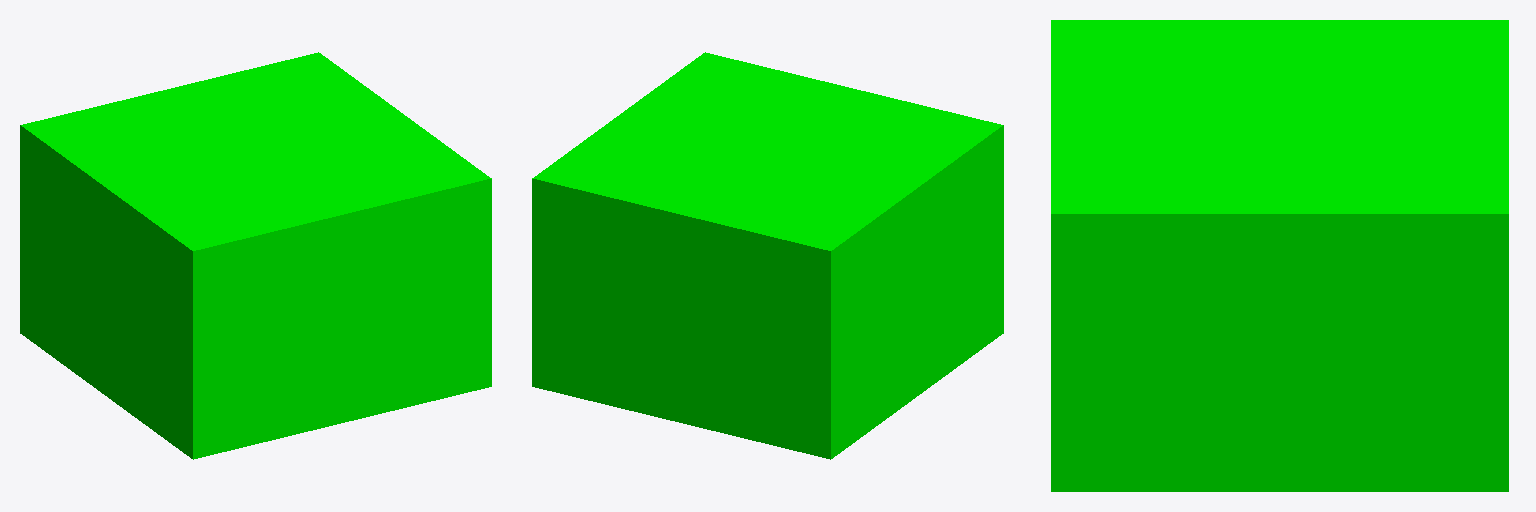
URDF robot description (cuboid_non_target):
<robot name="cuboid_non_target">
  <material name="darkgray"><color rgba="0.0 1.0 0.0 1"/></material>
  <link name="cabinet_middle_plate">
    <inertial>
      <mass value="1.0" />
      <origin xyz="0 0 0.0" /> 
      <inertia  ixx="0.01" ixy="0.0"  ixz="0.0"  iyy="0.01"  iyz="0.0"  izz="0.01" />
    </inertial>
    <visual>
      <origin xyz="0 0 0" rpy="0 0 0" />
      <geometry>
        <mesh filename="cuboid.obj" scale="1 1 1"/>
      </geometry>
      <material name="darkgray"/>
    </visual>
    <collision>
      <origin xyz="0 0 0" rpy="0 0 0" />
      <geometry>
        <mesh filename="cuboid.obj" scale="1 1 1"/>
      </geometry>
    </collision>
  </link>
</robot>

--- Facts derived from the render (not from the file) ---
Views: 3 orthographic renders of the robot side by side, from view 1: azimuth 30°, elevation 25°; view 2: azimuth 150°, elevation 25°; view 3: azimuth 270°, elevation 25°.
Model cuboid_non_target with 1 links and 0 joints (none), rooted at cabinet_middle_plate, posed every joint at zero.
Links seen in each view (by area): view 1: cabinet_middle_plate; view 2: cabinet_middle_plate; view 3: cabinet_middle_plate.
Link boxes in pixels (x1,y1,x2,y2): cabinet_middle_plate: [20, 52, 491, 459]; cabinet_middle_plate: [532, 52, 1003, 459]; cabinet_middle_plate: [1051, 20, 1508, 491].
Bounding box of the posed robot: 0.12 × 0.12 × 0.08 m (x, y, z).
Meshes: 1 distinct files referenced, 1 mesh visuals loaded (1 OBJ).